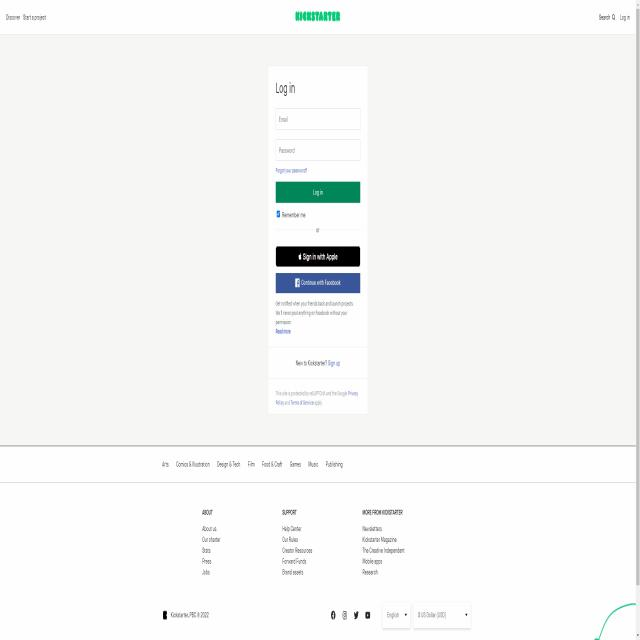menu-bar: (596, 8, 632, 28)
tab-bar: (160, 453, 348, 475)
